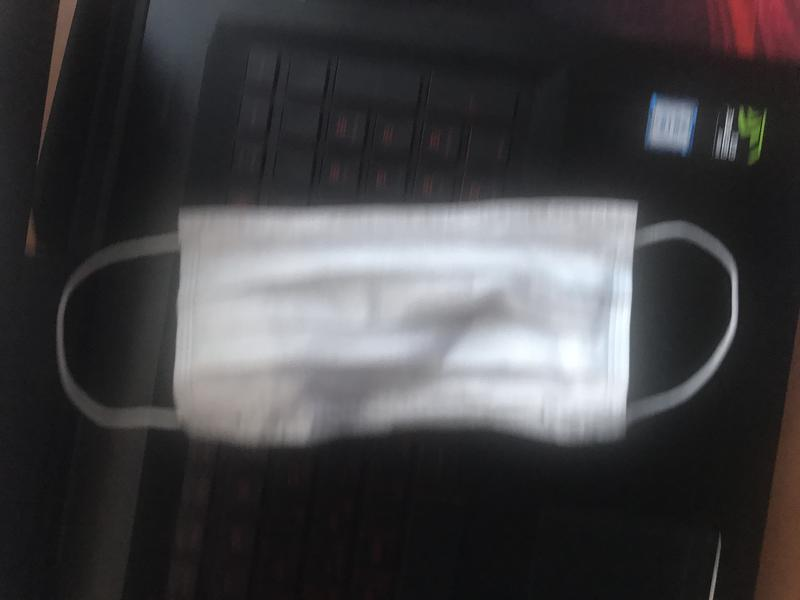medical_mask: (54, 198, 740, 448)
